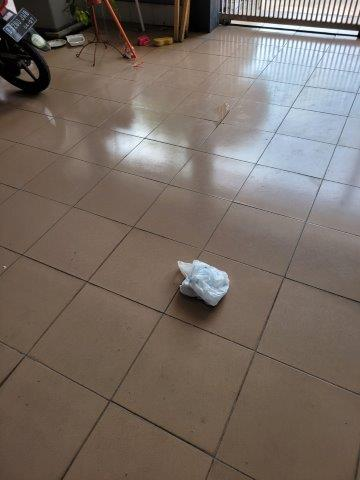plastik: (173, 258, 231, 307)
